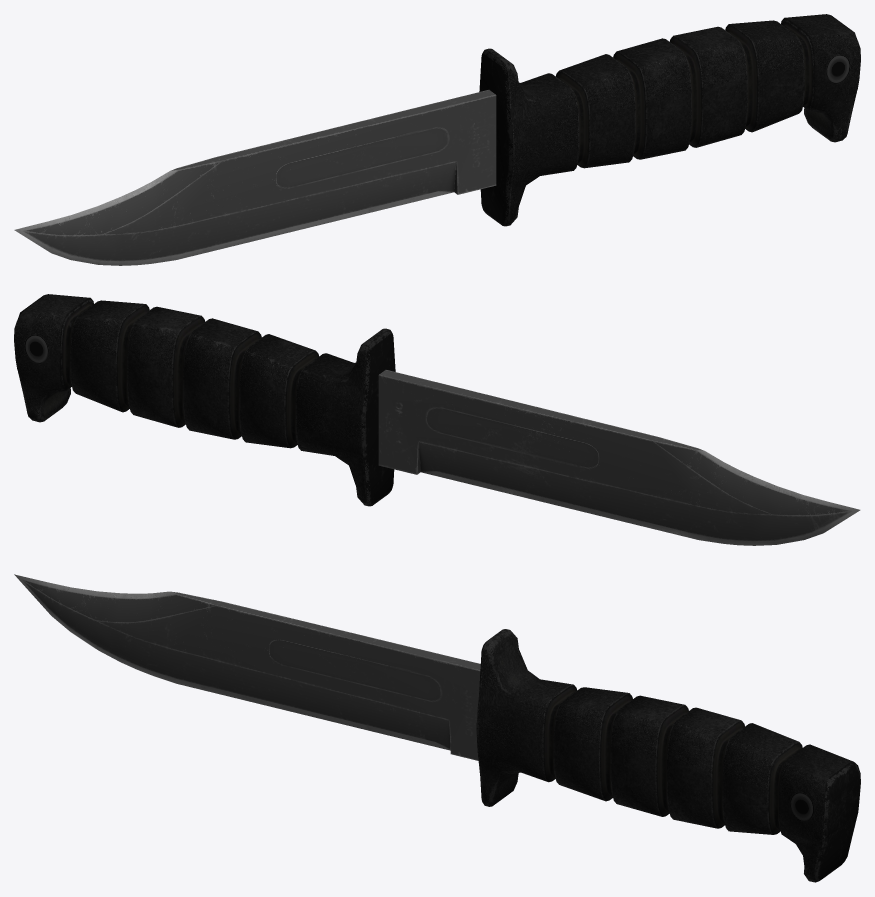
File: knife.fbx
3 views of the same model, one above another, from view 1: azimuth 30°, elevation 25°; view 2: azimuth 150°, elevation 25°; view 3: azimuth 330°, elevation 25° (orthographic).
Parts seen in each view (by area): view 1: knife; view 2: knife; view 3: knife.
Part boxes in pixels (x1,y1,x2,y2): knife: (14, 14, 860, 265); knife: (14, 294, 860, 545); knife: (14, 574, 860, 882).
Size of the model in its own units: 200 by 37.97 by 15.19.
Materials: 1 (1 with a texture image).
